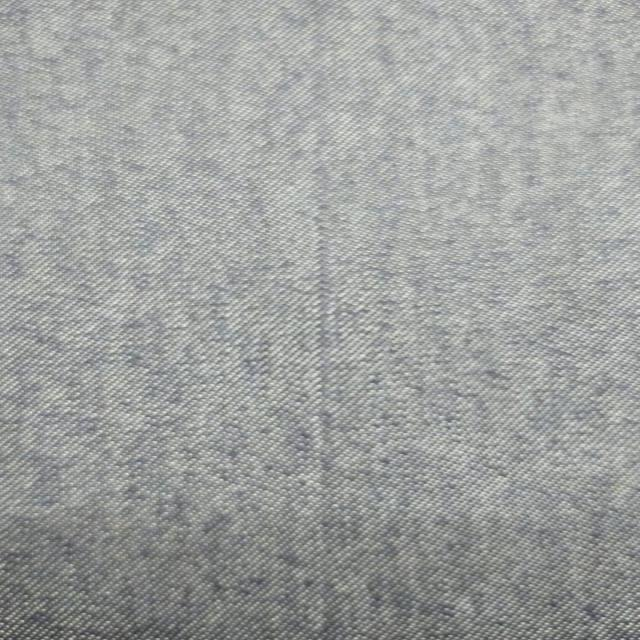Line: (308, 0, 340, 640)
